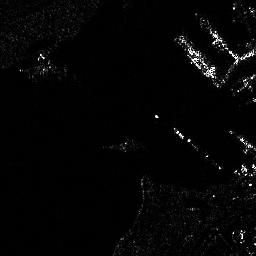ship: (179, 33, 216, 78)
